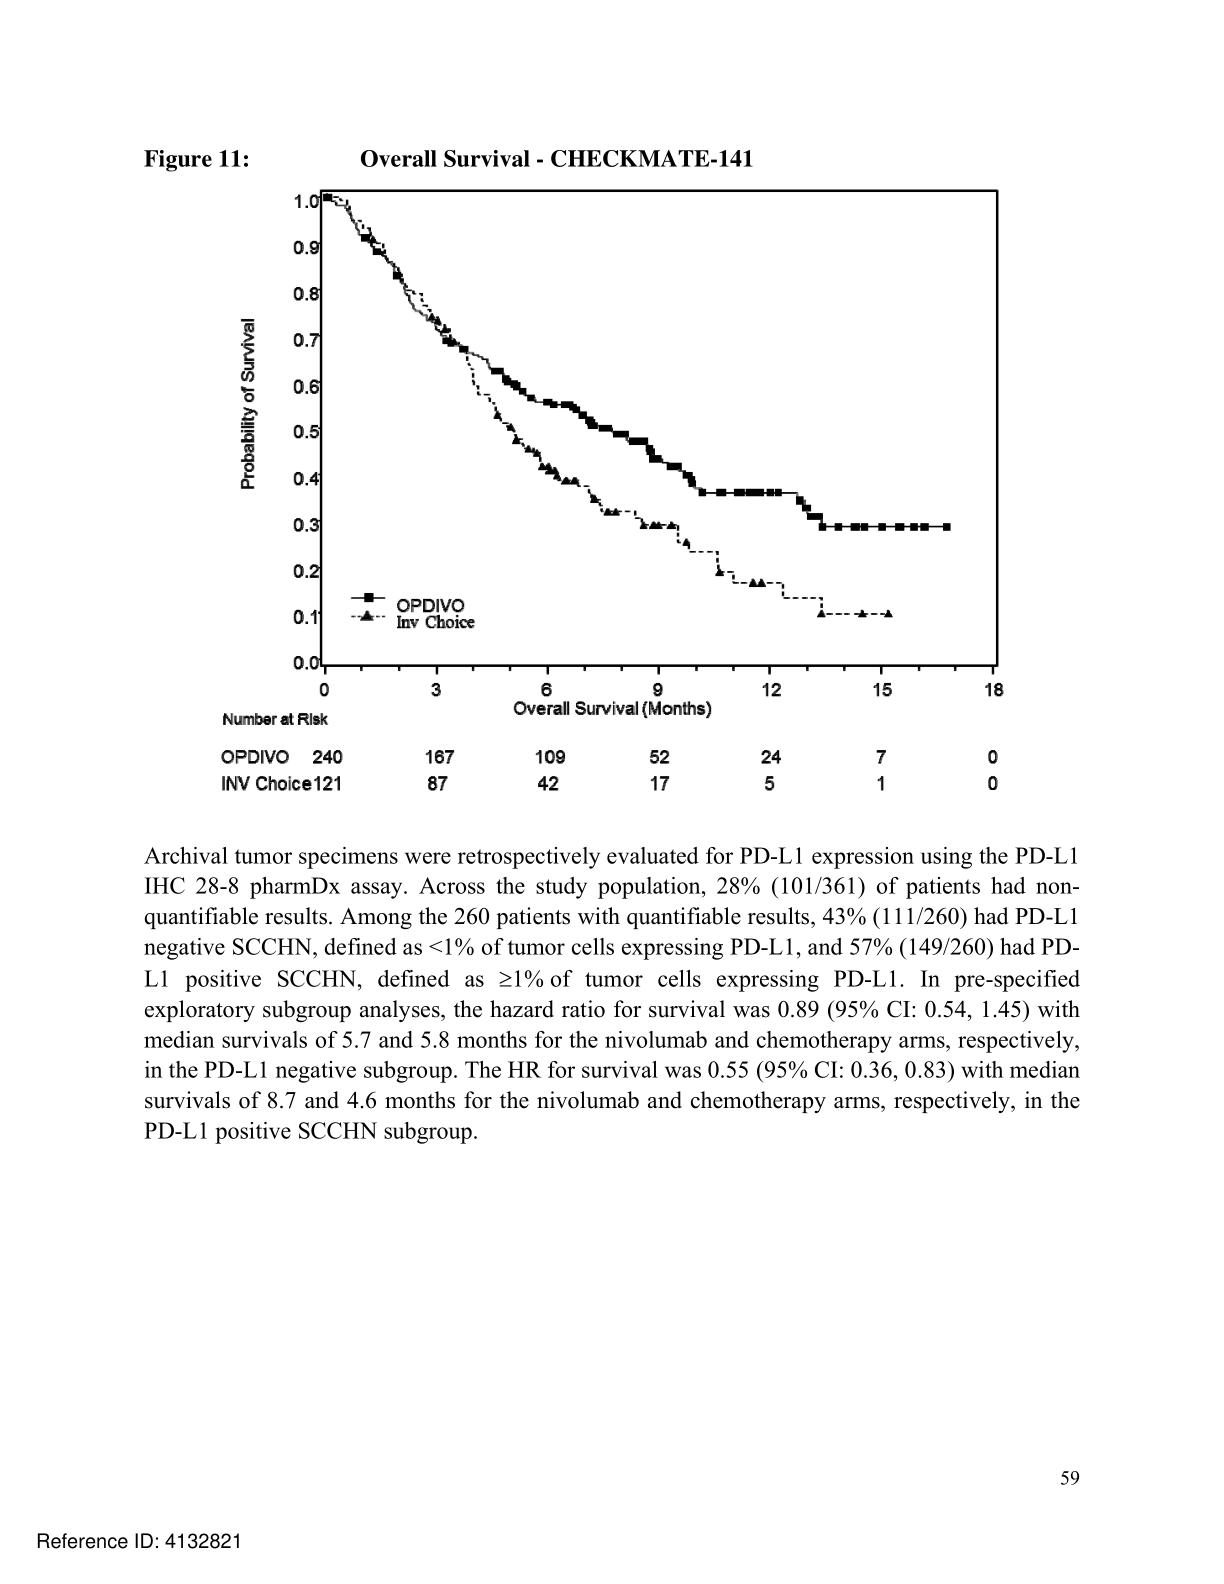nolines: (219, 744, 1002, 793)
